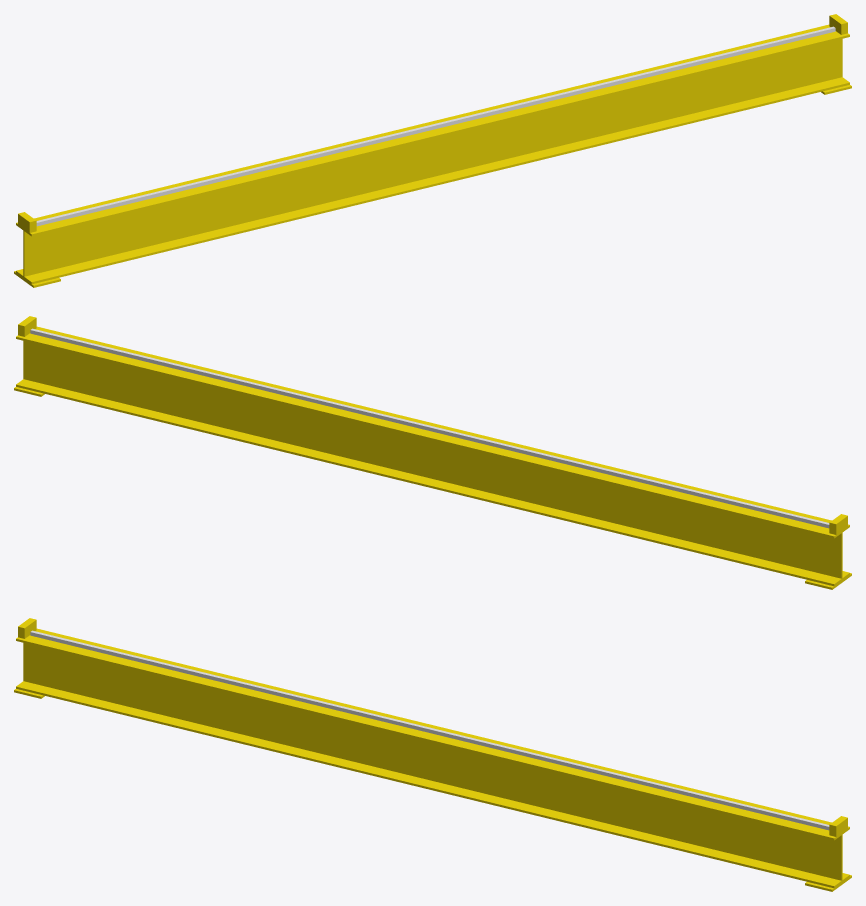
The model's file is runway-beam.glb.
The picture shows the model from 3 angles, top to bottom: view 1: azimuth 30°, elevation 25°; view 2: azimuth 150°, elevation 25°; view 3: azimuth 330°, elevation 25°; orthographic projection.
Visible parts, largest first — view 1: body, rail; view 2: body, rail; view 3: body, rail.
Part boxes in pixels (left/top/right/bottom): body: left=14, top=14, right=851, bottom=287; rail: left=36, top=26, right=835, bottom=226; body: left=14, top=316, right=851, bottom=589; rail: left=30, top=328, right=829, bottom=528; body: left=14, top=618, right=851, bottom=891; rail: left=30, top=630, right=829, bottom=830.
Size of what is drawn, in the model's own units: 12 by 0.88 by 0.5.
